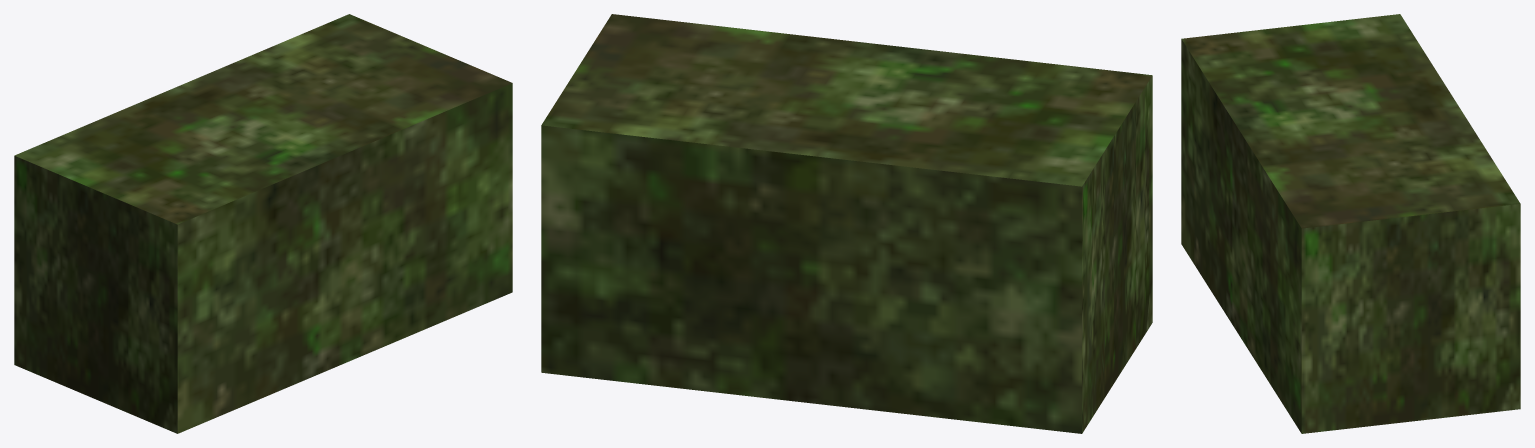
File: OVERHILL_A_01_STONE_BLOCK_13.fbx
The picture shows the model from 3 angles, left to right: view 1: azimuth 30°, elevation 25°; view 2: azimuth 150°, elevation 25°; view 3: azimuth 270°, elevation 25°; orthographic projection. The views are drawn at different scales.
Visible parts, largest first — view 1: OVERHILL_A_01_STONE_BLOCK_13; view 2: OVERHILL_A_01_STONE_BLOCK_13; view 3: OVERHILL_A_01_STONE_BLOCK_13.
Part boxes in pixels (x1=…): OVERHILL_A_01_STONE_BLOCK_13: x1=14, y1=14, x2=512, y2=433; OVERHILL_A_01_STONE_BLOCK_13: x1=541, y1=14, x2=1152, y2=433; OVERHILL_A_01_STONE_BLOCK_13: x1=1181, y1=14, x2=1520, y2=433.
Size of the model in its own units: 17728 by 7913 by 11844.
Materials: 1 (1 with a texture image).
